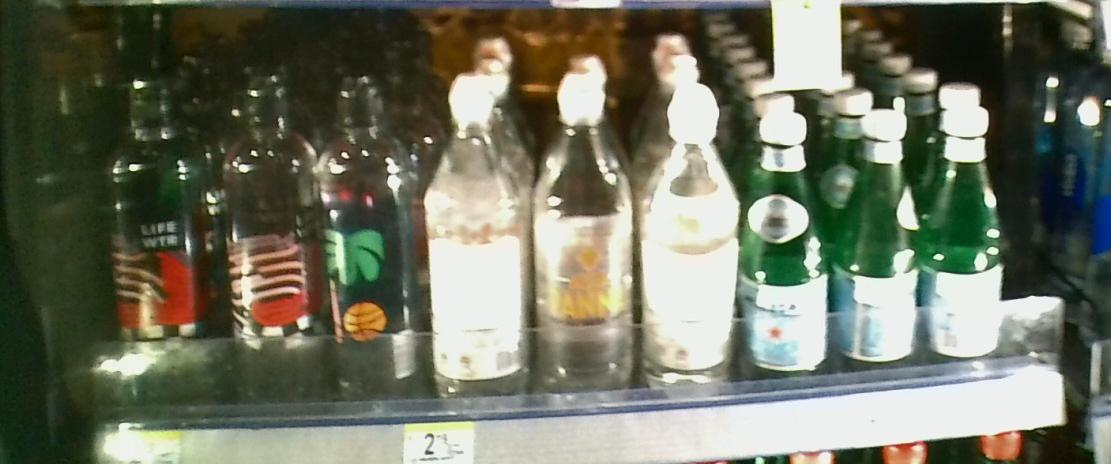bottle: (105, 67, 214, 397), (322, 66, 425, 409), (537, 66, 639, 407), (219, 66, 319, 406), (427, 66, 527, 405), (646, 68, 739, 399), (926, 94, 1009, 398), (746, 102, 828, 400), (836, 107, 917, 399)
